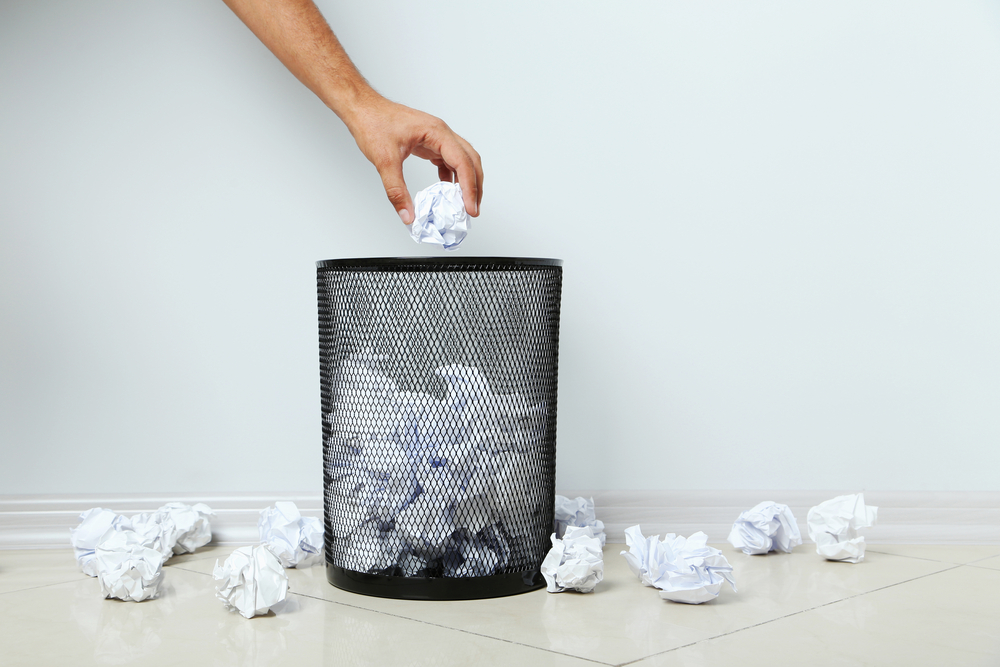paper: (52, 452, 229, 622), (785, 406, 906, 600), (345, 134, 522, 258), (619, 486, 748, 642), (247, 462, 358, 635), (700, 422, 809, 584), (513, 422, 621, 566), (196, 513, 294, 643), (517, 510, 620, 632)
